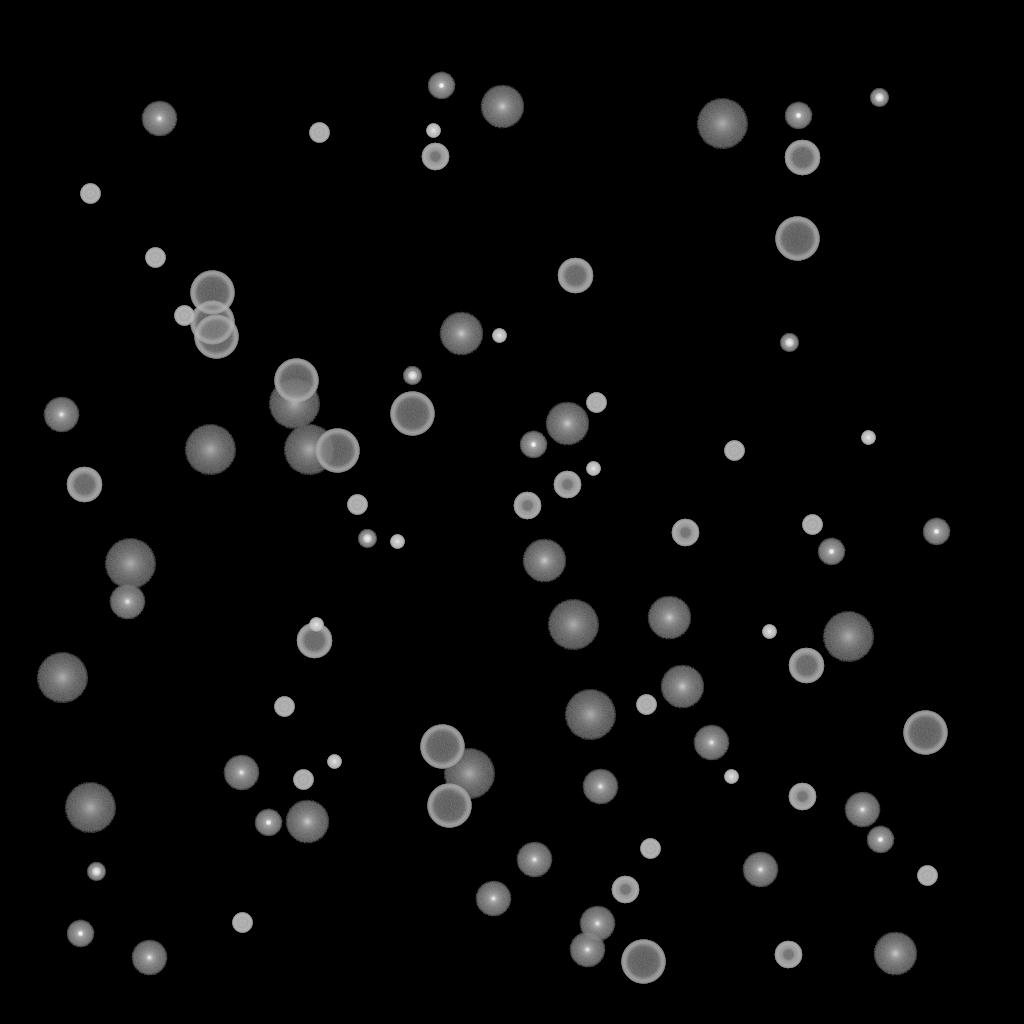depth:-10: (427, 72, 455, 100), (66, 920, 94, 948), (866, 826, 894, 854), (784, 102, 812, 130), (254, 809, 282, 837), (817, 538, 845, 566), (519, 431, 547, 459), (922, 518, 950, 546)
depth:-20: (870, 89, 888, 107), (87, 863, 105, 881), (403, 367, 421, 385), (358, 530, 376, 548), (780, 334, 798, 352)
depth:-30: (327, 755, 341, 769), (390, 535, 404, 549), (309, 618, 323, 632), (492, 329, 506, 343), (426, 124, 440, 138), (861, 431, 875, 445), (724, 770, 738, 784), (762, 625, 776, 639), (586, 462, 600, 476)
depth:-40: (347, 495, 367, 515), (640, 839, 660, 859), (917, 866, 937, 886), (80, 184, 100, 204), (174, 306, 194, 326), (586, 393, 606, 413), (309, 123, 329, 143), (145, 248, 165, 268), (274, 697, 294, 717), (724, 441, 744, 461), (636, 695, 656, 715), (802, 515, 822, 535), (232, 913, 252, 933), (293, 770, 313, 790)
depth:-50: (421, 143, 449, 171), (611, 876, 639, 904), (671, 519, 699, 547), (553, 471, 581, 499), (788, 783, 816, 811), (774, 941, 802, 969), (513, 492, 541, 520)
depth:-60: (784, 140, 820, 176), (557, 258, 593, 294), (788, 648, 824, 684), (66, 467, 102, 503), (296, 623, 332, 659)
depth:-70: (621, 940, 665, 984), (420, 725, 464, 769), (315, 429, 359, 473), (427, 784, 471, 828), (194, 315, 238, 359), (190, 271, 234, 315), (190, 301, 234, 345), (390, 392, 434, 436), (903, 711, 947, 755), (274, 359, 318, 403), (775, 217, 819, 261)
depth:0: (516, 842, 552, 878), (223, 755, 259, 791), (141, 101, 177, 137), (579, 906, 615, 942), (693, 725, 729, 761), (43, 397, 79, 433), (131, 940, 167, 976), (475, 881, 511, 917), (569, 932, 605, 968), (582, 769, 618, 805), (844, 792, 880, 828), (742, 852, 778, 888), (109, 584, 145, 620)
depth:10: (660, 665, 704, 709), (873, 932, 917, 976), (522, 539, 566, 583), (285, 800, 329, 844), (647, 596, 691, 640), (545, 402, 589, 446), (439, 312, 483, 356), (480, 85, 524, 129)
depth:20: (104, 539, 156, 589), (283, 425, 335, 475), (268, 379, 320, 429), (36, 653, 88, 703), (64, 783, 116, 833), (564, 690, 616, 740), (184, 425, 236, 475), (547, 600, 599, 650), (443, 749, 495, 799), (822, 612, 874, 662), (696, 99, 748, 149)
